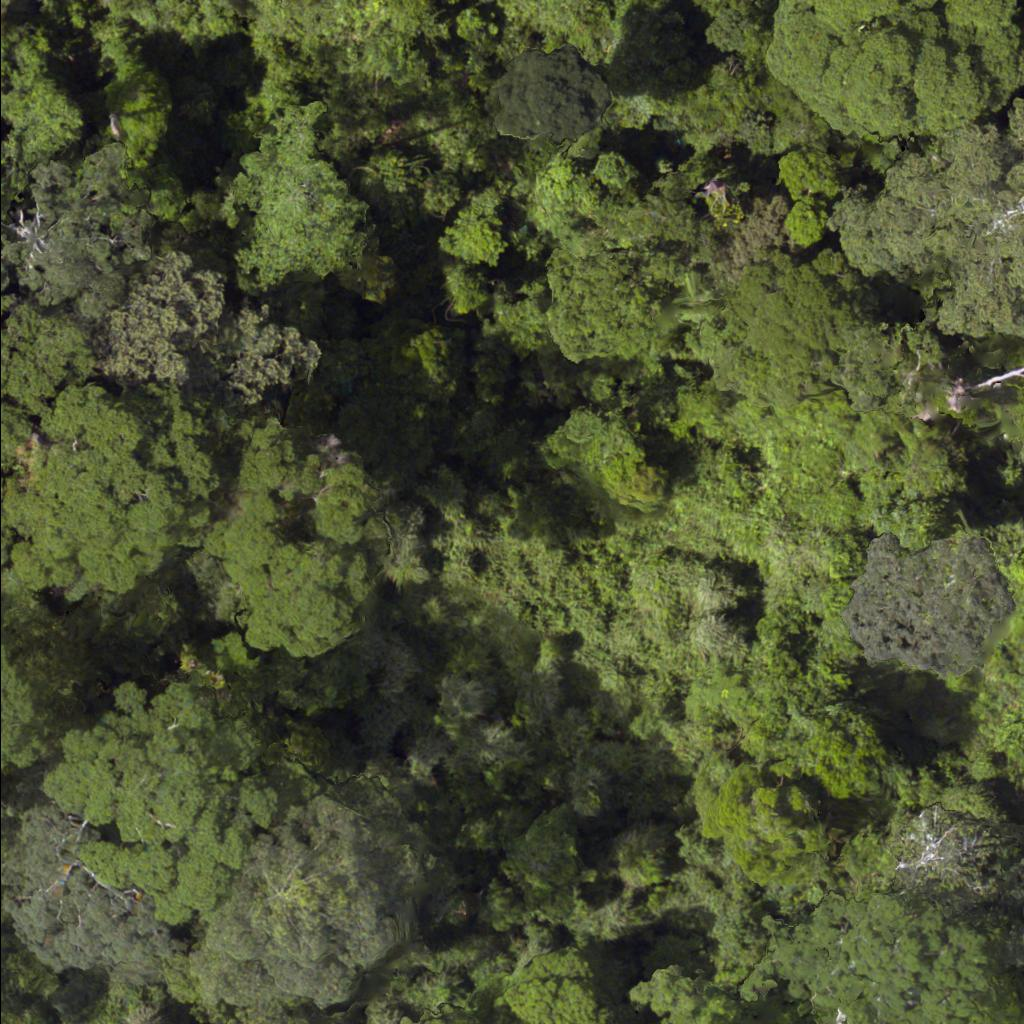crown: (67, 698, 266, 915), (199, 817, 406, 1023), (12, 815, 162, 971), (0, 650, 35, 778)
